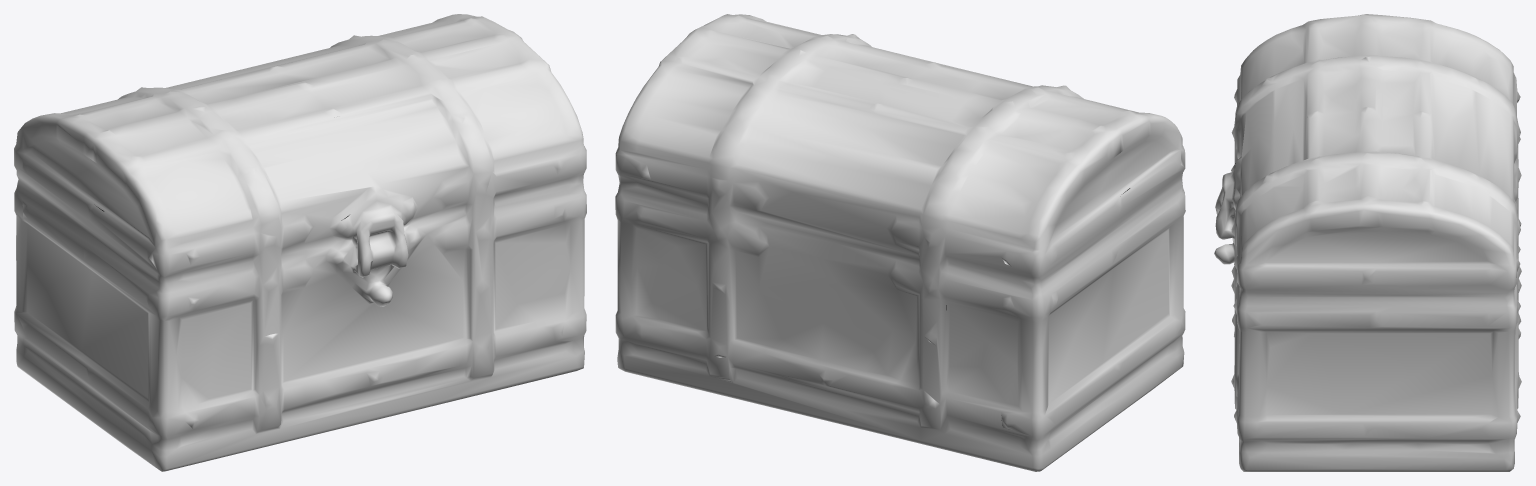
Rendered from chest-prototype-lowpoly.glb.
The picture shows the model from 3 angles, left to right: view 1: azimuth 30°, elevation 25°; view 2: azimuth 150°, elevation 25°; view 3: azimuth 270°, elevation 25°; orthographic projection. The views are drawn at different scales.
Parts seen in each view (by area): view 1: world; view 2: world; view 3: world.
Part boxes in pixels (box(x1,y1,x2,y2)): world: box(14, 14, 586, 471); world: box(615, 14, 1185, 471); world: box(1214, 14, 1521, 471).
Bounding box in the file's own units: 0.9935 × 0.6374 × 0.6545.
1 material, 1 textured.
